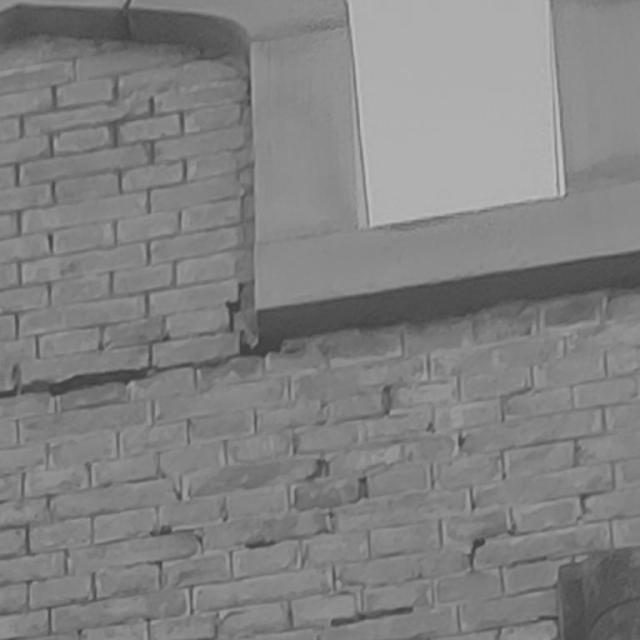crack: (1, 355, 227, 397), (226, 280, 283, 358)
